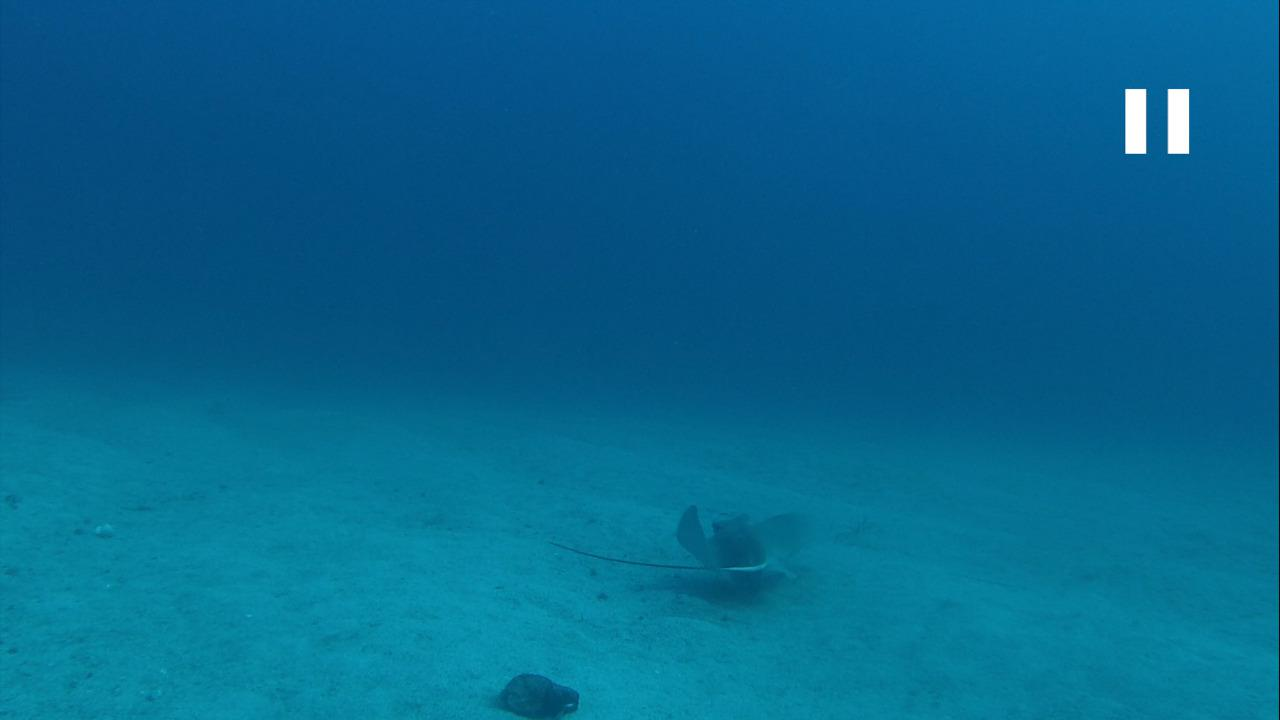myliobatis: (528, 499, 818, 600)
